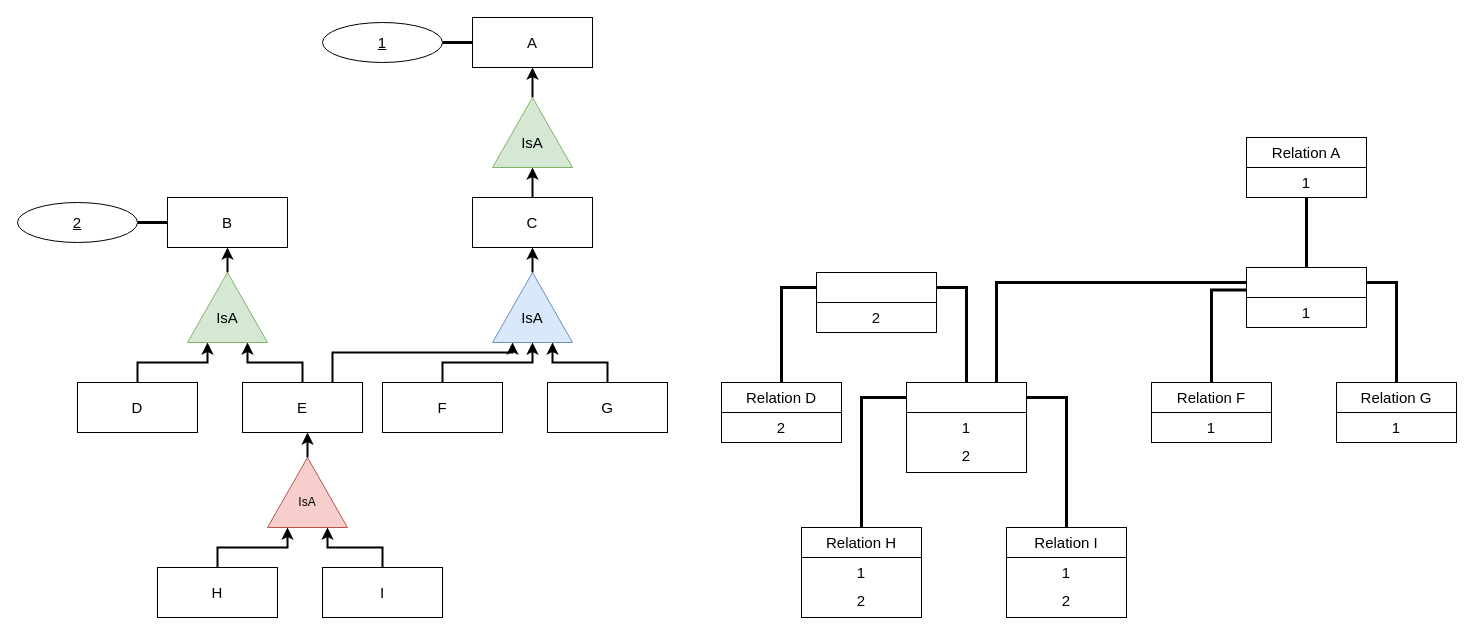
The diagram is 1474 pixels wide and 635 high, and some of its shapes have lost their labels. The shapes that lost their labels are listed below. From the top down, each one's centre as x and y in pixels, then its label:
At point 876,287: "Relation B".
At point 1306,282: "Relation C".
At point 966,397: "Relation E".
